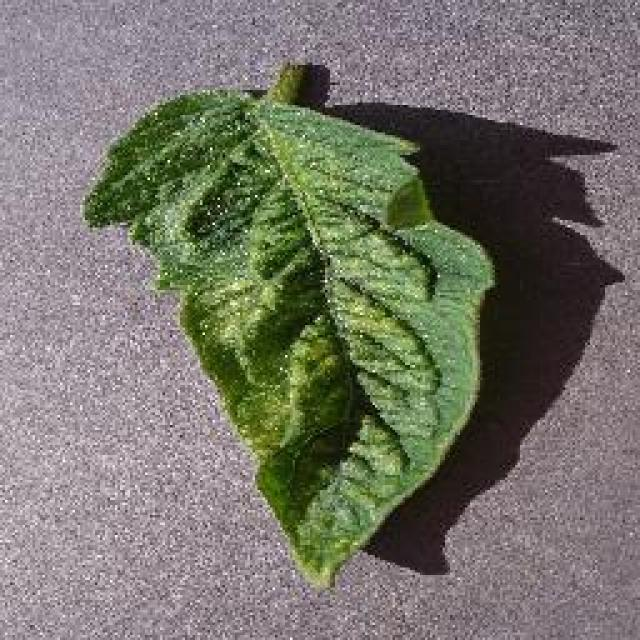Tomato___Spider_mites Two-spotted_spider_mite: (85, 65, 492, 582)
